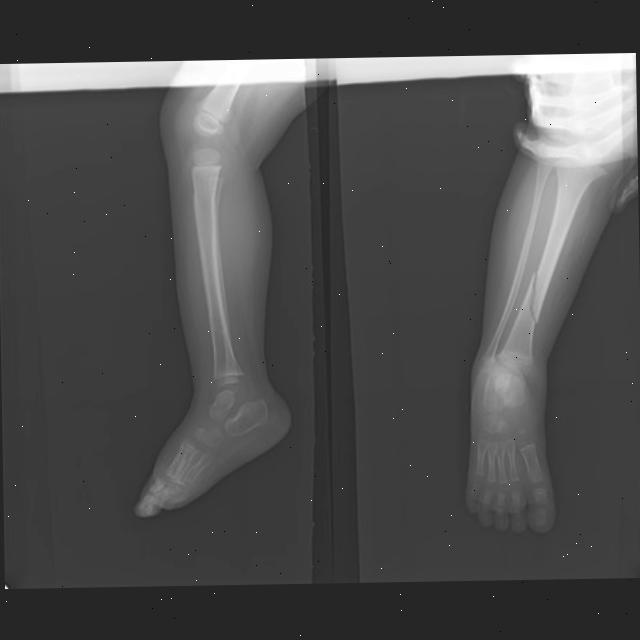Fracture: (526, 264, 539, 327), (206, 303, 228, 335)
